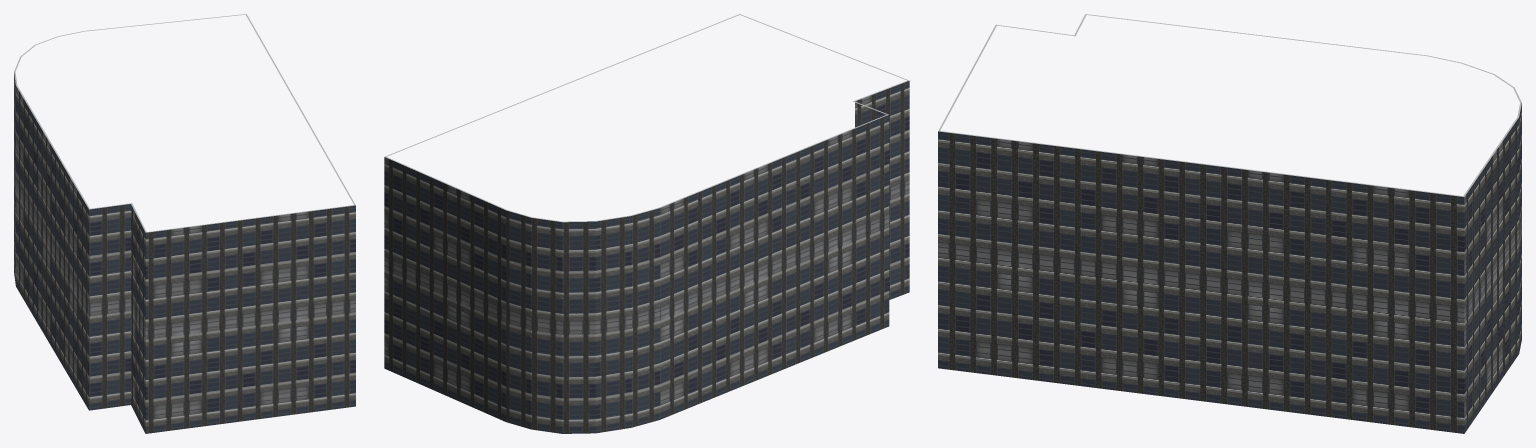
The picture shows the model from 3 angles, left to right: view 1: azimuth 30°, elevation 25°; view 2: azimuth 150°, elevation 25°; view 3: azimuth 270°, elevation 25°; orthographic projection. The views are drawn at different scales.
Parts seen in each view (by area): view 1: Facade019A, Coping; view 2: Facade019A, Coping; view 3: Facade019A, Coping.
Part boxes in pixels (box(x1,y1,x2,y2)): Facade019A: box(14, 73, 355, 433); Coping: box(14, 14, 355, 232); Facade019A: box(384, 81, 909, 433); Coping: box(384, 14, 909, 222); Facade019A: box(938, 103, 1521, 433); Coping: box(938, 14, 1521, 196).
Size of the model in its own units: 58.04 by 35.01 by 78.19.
Materials: 2 (1 with a texture image).
